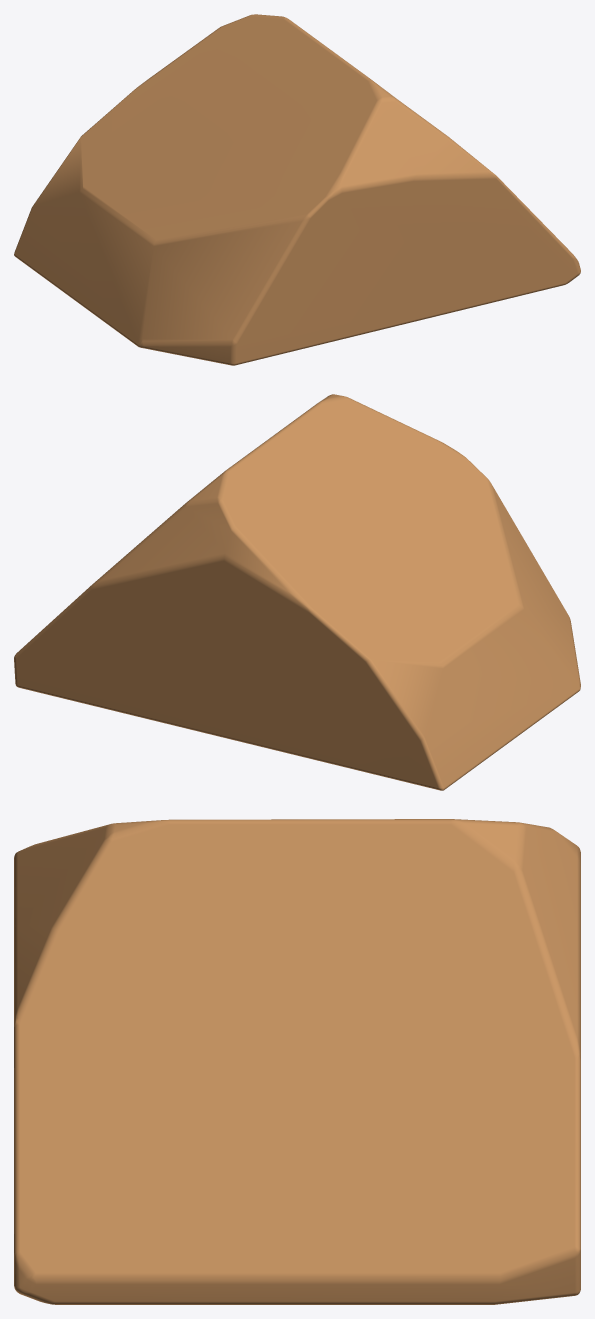
File: Rocks type 5.fbx
The picture shows the model from 3 angles, top to bottom: view 1: azimuth 30°, elevation 25°; view 2: azimuth 150°, elevation 25°; view 3: azimuth 270°, elevation 25°; orthographic projection. The views are drawn at different scales.
Parts seen in each view (by area): view 1: Cube.041; view 2: Cube.041; view 3: Cube.041.
Part boxes in pixels (x1,y1,x2,y2): Cube.041: [14, 14, 580, 365]; Cube.041: [14, 394, 580, 790]; Cube.041: [14, 819, 580, 1304].
Size of the model in its own units: 4124 by 2045 by 3005.
